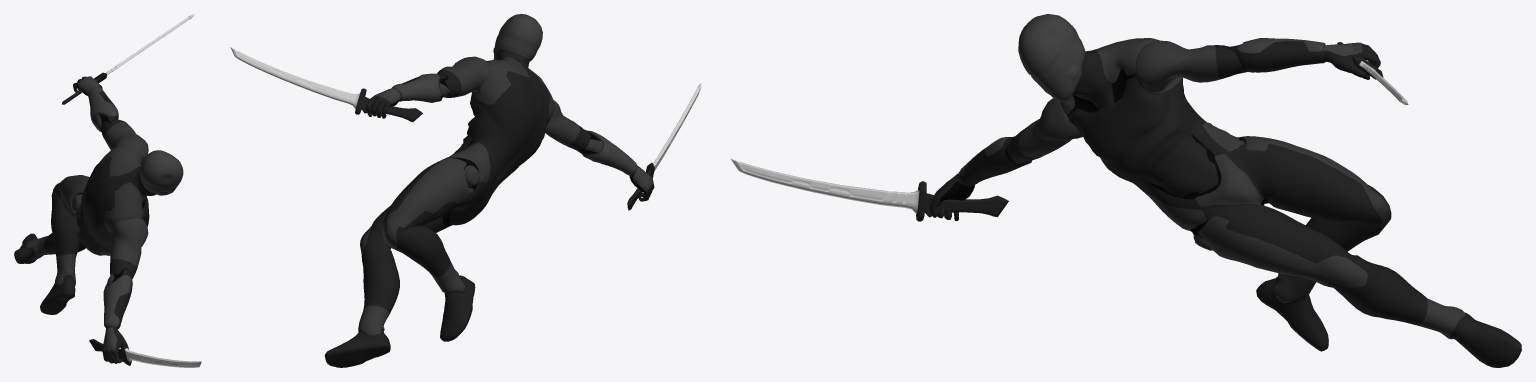
The picture shows the model from 3 angles, left to right: view 1: azimuth 30°, elevation 25°; view 2: azimuth 150°, elevation 25°; view 3: azimuth 270°, elevation 25°; orthographic projection. The views are drawn at different scales.
Visible parts, largest first — view 1: Cyborg_Ninja_Killer, Sword_l001, Sword_l; view 2: Cyborg_Ninja_Killer, Sword_l, Sword_l001; view 3: Cyborg_Ninja_Killer, Sword_l001.
Boxes of the visible parts, x1,y1,x2,y2 form: Cyborg_Ninja_Killer: (14, 76, 183, 363); Sword_l001: (89, 339, 201, 367); Sword_l: (62, 14, 194, 104); Cyborg_Ninja_Killer: (324, 14, 654, 367); Sword_l: (230, 47, 422, 122); Sword_l001: (627, 83, 701, 210); Cyborg_Ninja_Killer: (929, 14, 1521, 367); Sword_l001: (730, 158, 1008, 221).
Bounding box in the file's own units: 130 × 128 × 244.
2 materials, 2 textured.
